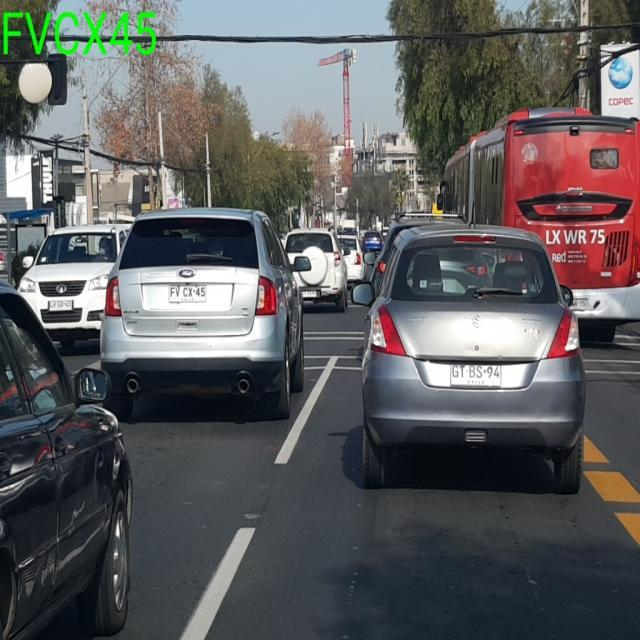Ad-signs: (598, 42, 639, 121)
Bus: (438, 104, 639, 341)
Car: (350, 221, 586, 494), (0, 280, 134, 639), (97, 205, 307, 421), (16, 222, 132, 344)
